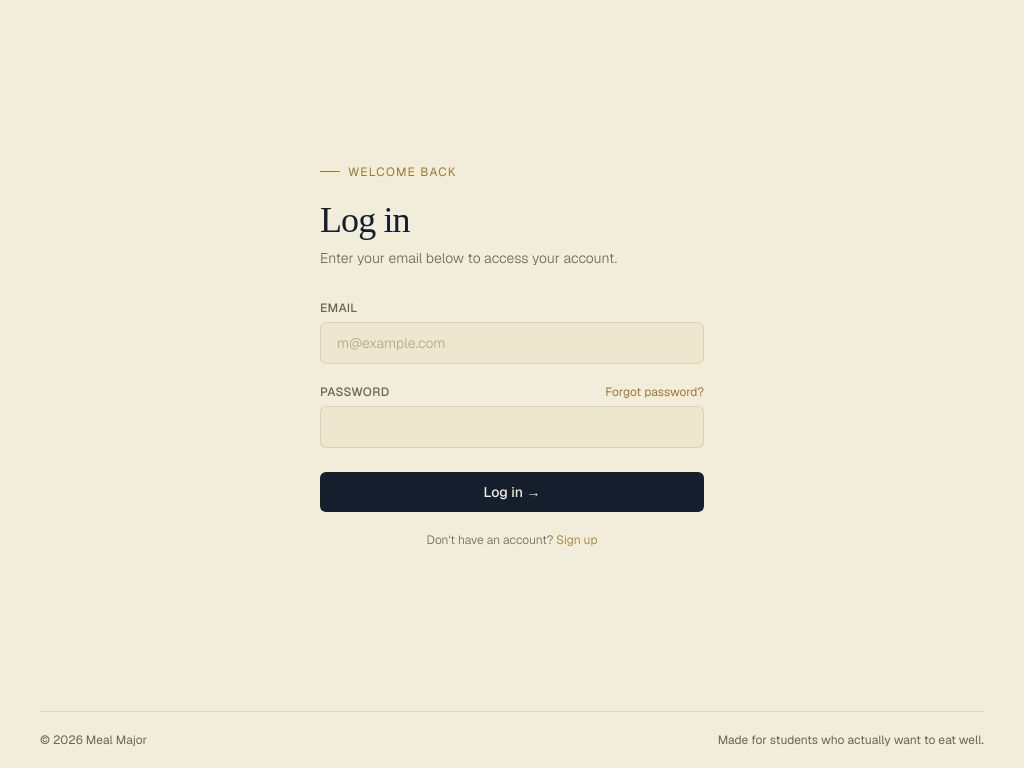
Scenario: LoginForm › shows loading state while submitting
Type "test@example.com" into the field labelled "Email". click: (512, 342)
box: [320, 322, 704, 364]
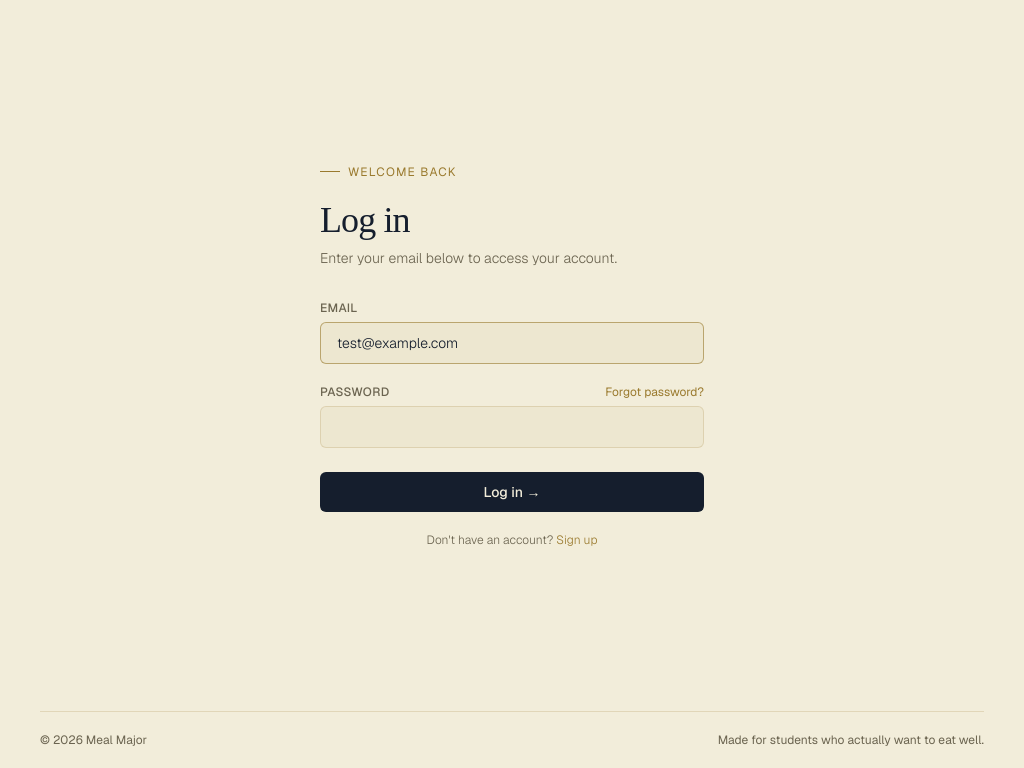
Type "password123" into the password field labelled "Password". click: (512, 426)
box: [320, 406, 704, 448]
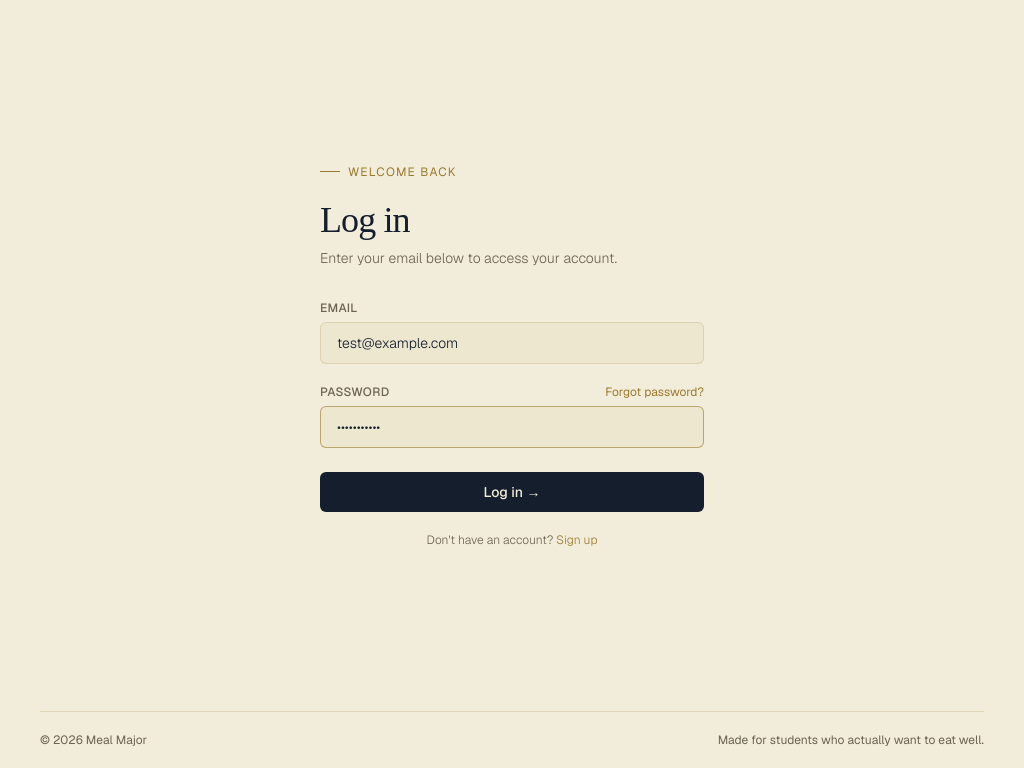
Click the button "Log in →". click: (512, 492)
box: [320, 472, 704, 512]
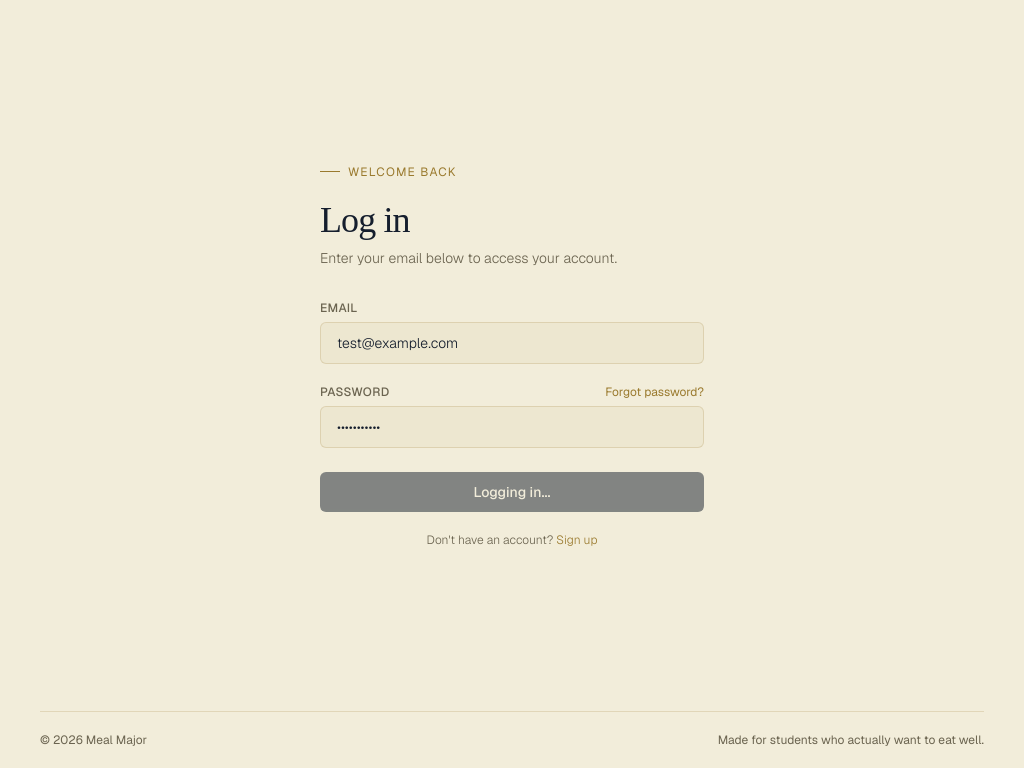
Check: the button "Logging in..." is disabled, box [320, 472, 704, 512]
